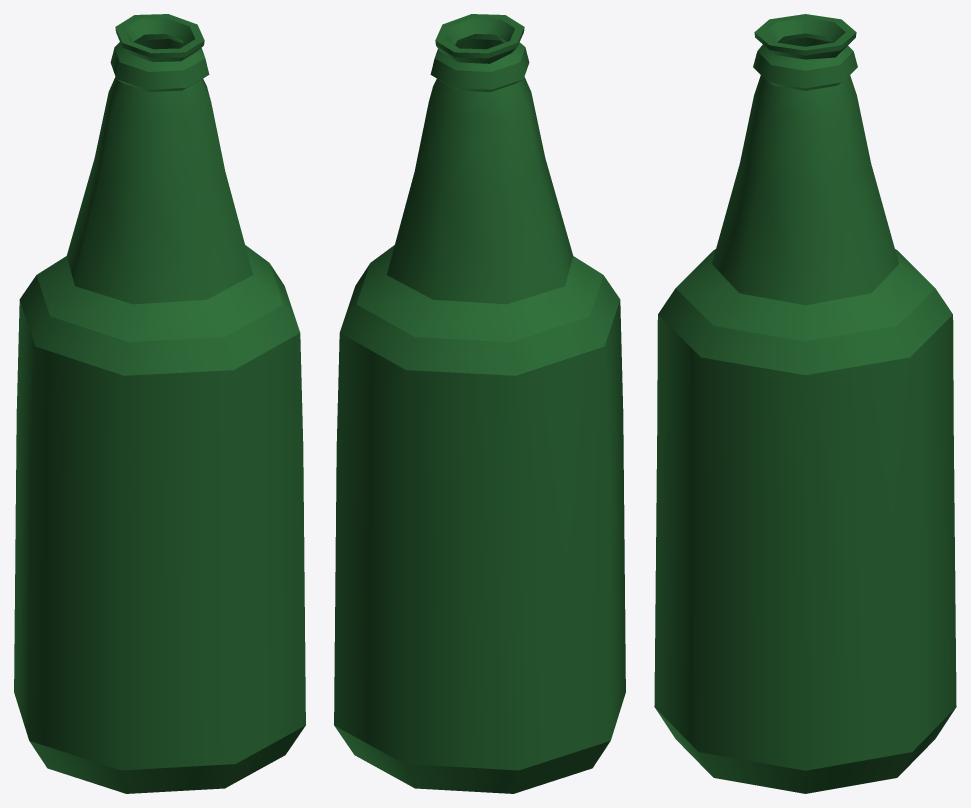
The model's file is pullo_exp.FBX.
The picture shows the model from 3 angles, left to right: view 1: azimuth 30°, elevation 25°; view 2: azimuth 150°, elevation 25°; view 3: azimuth 270°, elevation 25°; orthographic projection.
Parts seen in each view (by area): view 1: Line001; view 2: Line001; view 3: Line001.
Boxes of the visible parts, left/top/right/bottom form: Line001: left=14, top=14, right=305, bottom=793; Line001: left=334, top=14, right=625, bottom=793; Line001: left=654, top=14, right=956, bottom=793.
Bounding box in the file's own units: 68.71 × 178 × 68.71.
